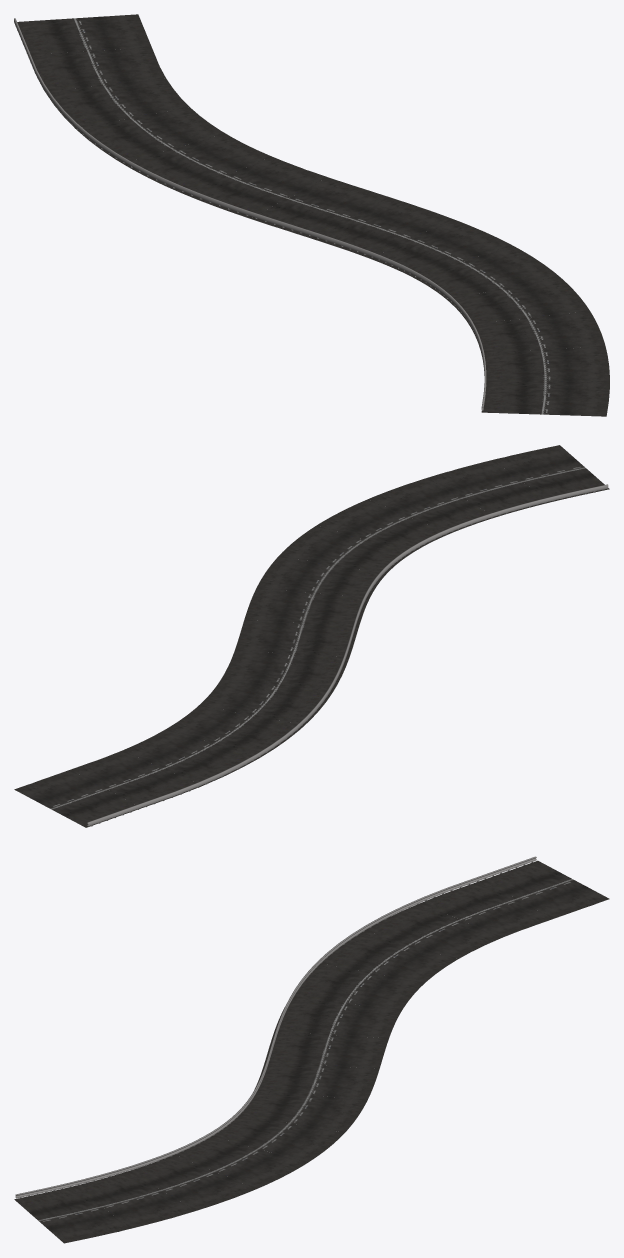
The model's file is Curve road.obj.
The picture shows the model from 3 angles, top to bottom: view 1: azimuth 30°, elevation 25°; view 2: azimuth 150°, elevation 25°; view 3: azimuth 330°, elevation 25°; orthographic projection. The views are drawn at different scales.
Visible parts, largest first — view 1: Road_Plane.001, Barrier_Plane.034; view 2: Road_Plane.001, Barrier_Plane.034; view 3: Road_Plane.001, Barrier_Plane.034.
Part boxes in pixels (x1,y1,x2,y2): Road_Plane.001: (17,14,609,416); Barrier_Plane.034: (14,18,486,410); Road_Plane.001: (14,445,609,827); Barrier_Plane.034: (87,484,608,826); Road_Plane.001: (14,860,609,1243); Barrier_Plane.034: (15,856,536,1198).
Size of the model in its own units: 25.51 by 0.6026 by 114.
